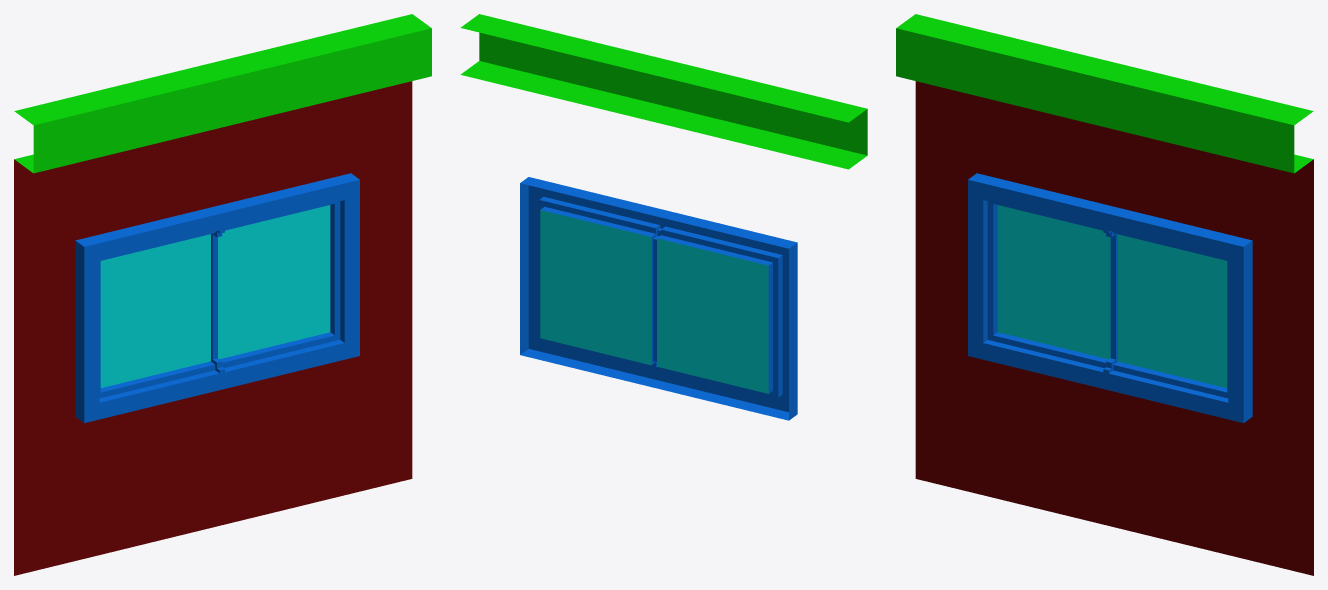
File: Double_Window_Wall.fbx
3 views of the same model, side by side, from view 1: azimuth 30°, elevation 25°; view 2: azimuth 150°, elevation 25°; view 3: azimuth 330°, elevation 25° (orthographic). The views are drawn at different scales.
Parts seen in each view (by area): view 1: Build_2_Two_Window_Wall; view 2: Build_2_Two_Window_Wall; view 3: Build_2_Two_Window_Wall.
Boxes of the visible parts, x1,y1,x2,y2 form: Build_2_Two_Window_Wall: (14,14,431,575); Build_2_Two_Window_Wall: (460,14,867,420); Build_2_Two_Window_Wall: (896,14,1313,575).
Bounding box in the file's own units: 260 × 22 × 290.
